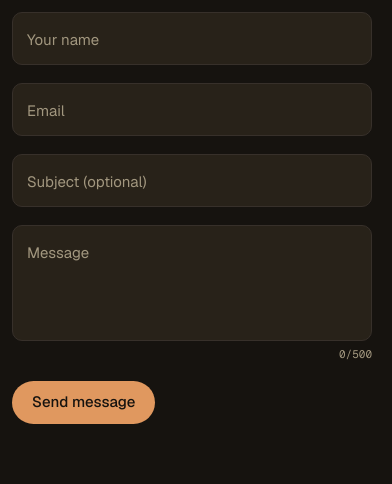
FloatingLabelForm — sending › failure: shows a friendly alert and keeps the values
This screenshot has width=392, height=484.
Type "  Ada  " into the field labelled "Your name" at [192, 38], box [12,12,372,65]
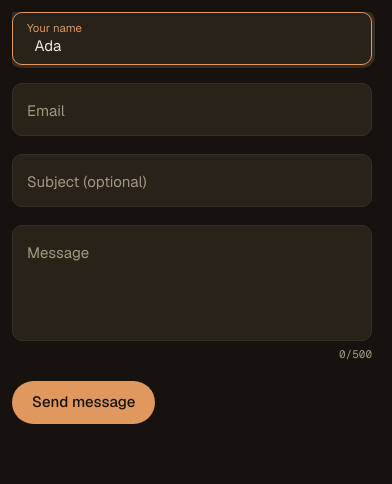
Type "ada@example.com" into the field labelled "Email" at [192, 110], box [12,83,372,136]
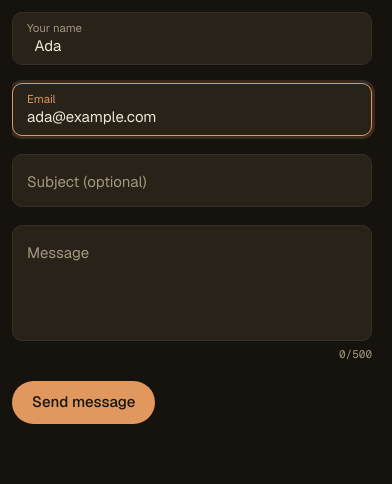
Type "Hello there, lovely radio!" into the text box labelled "Message" at [192, 283], box [12,225,372,341]
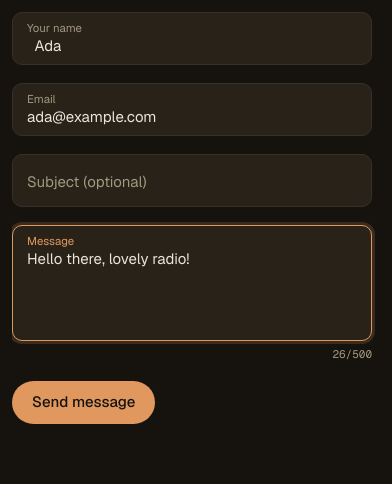
Click the button "Send message" at [84, 402], box [12,381,156,424]
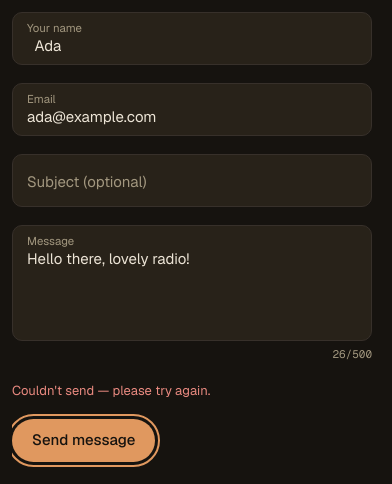
Check: the button "Send message" is enabled, box [12,419,156,462]
Check: the message reads "Couldn't send — please try again.", box [12,382,210,399]
